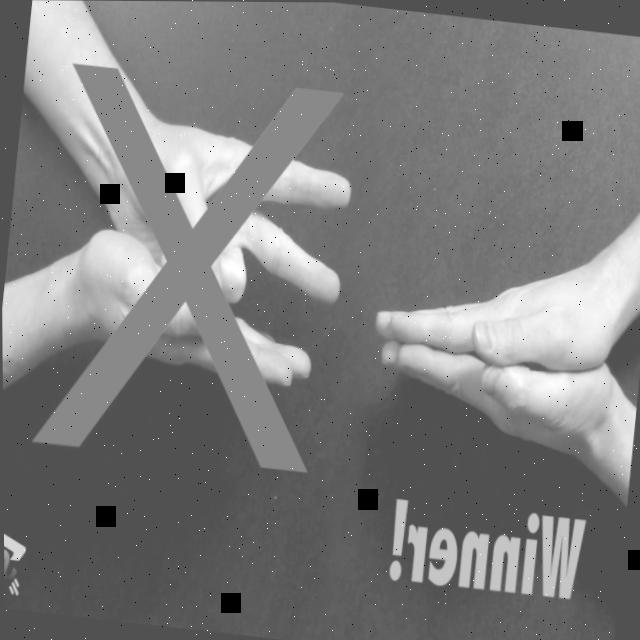Paper: (372, 244, 619, 372)
Scissors: (94, 113, 355, 313)
